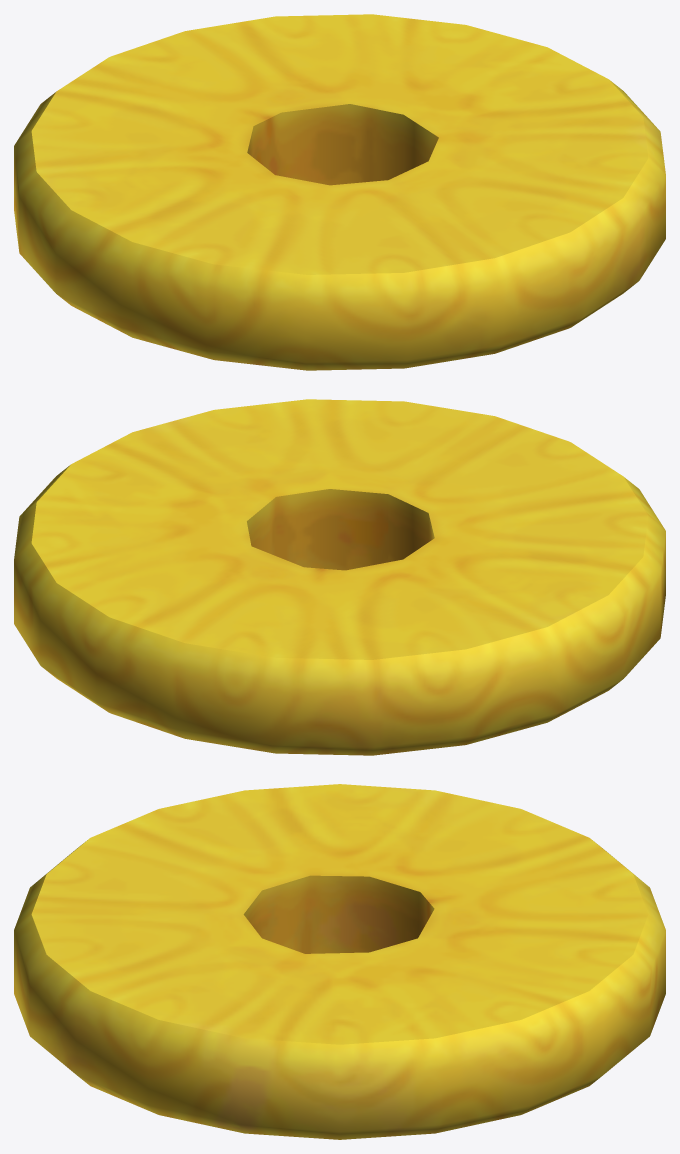
File: SM_PineappleSliceB.fbx
The picture shows the model from 3 angles, top to bottom: view 1: azimuth 30°, elevation 25°; view 2: azimuth 150°, elevation 25°; view 3: azimuth 270°, elevation 25°; orthographic projection.
Parts seen in each view (by area): view 1: SM_PineappleSliceB; view 2: SM_PineappleSliceB; view 3: SM_PineappleSliceB.
Boxes of the visible parts, x1,y1,x2,y2 form: SM_PineappleSliceB: (14,14,665,370); SM_PineappleSliceB: (14,399,665,755); SM_PineappleSliceB: (14,784,665,1139).
Size of the model in its own units: 17.04 by 2.74 by 17.04.
